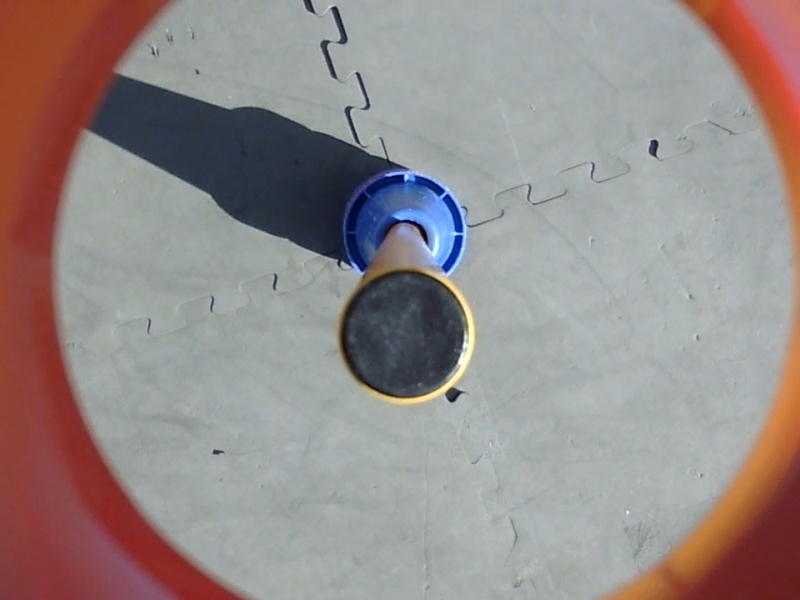tip: (334, 262, 480, 409)
